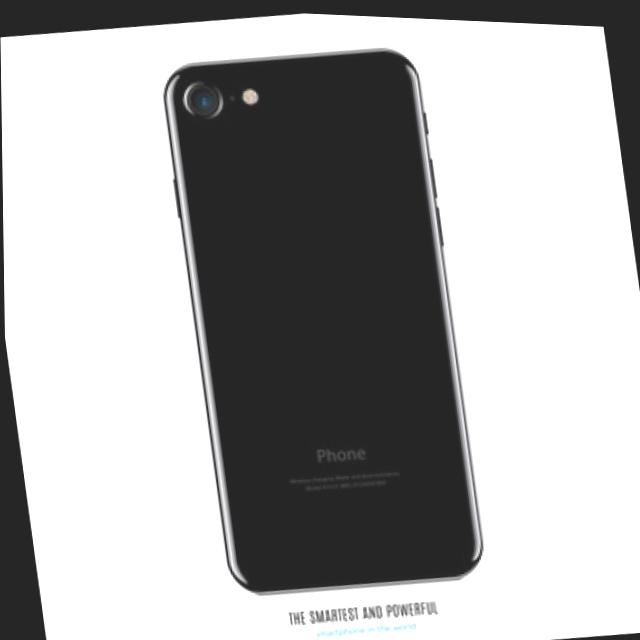Smartphone: (149, 20, 487, 615)
